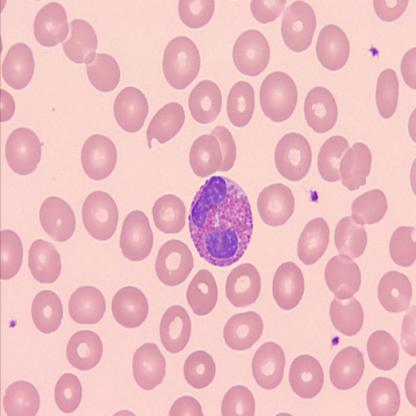Eosinophil: (188, 176, 254, 268)
